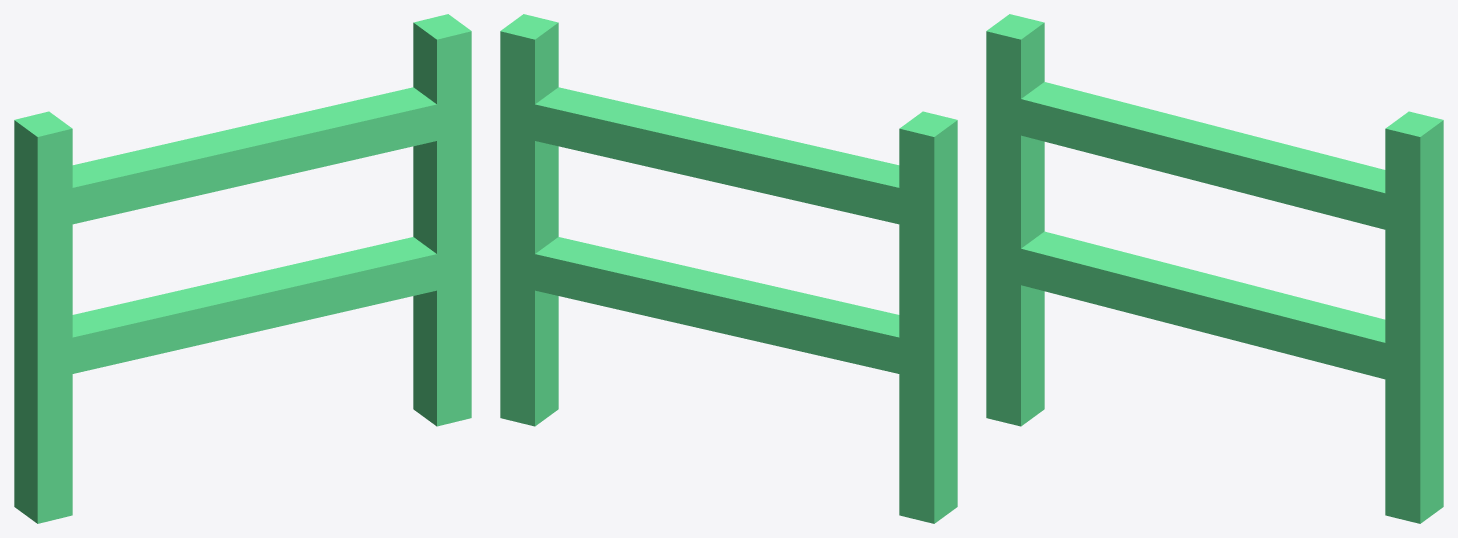
The model's file is Fence .glb.
3 views of the same model, side by side, from view 1: azimuth 30°, elevation 25°; view 2: azimuth 150°, elevation 25°; view 3: azimuth 330°, elevation 25° (orthographic).
Parts seen in each view (by area): view 1: Box, Box 3, Box 2, Box 1; view 2: Box, Box 3, Box 2, Box 1; view 3: Box 1, Box 3, Box 2, Box.
Part boxes in pixels (x1,y1,x2,y2): Box: (14,111,72,523); Box 3: (67,237,436,375); Box 2: (69,87,436,224); Box 1: (413,14,471,426); Box: (899,111,957,523); Box 3: (534,237,904,375); Box 2: (533,87,901,224); Box 1: (500,14,558,426); Box 1: (1385,111,1443,523); Box 3: (1016,231,1385,379); Box 2: (1021,82,1387,229); Box: (986,14,1044,426).
Bounding box in the file's own units: 1.17 × 1 × 0.1101.
